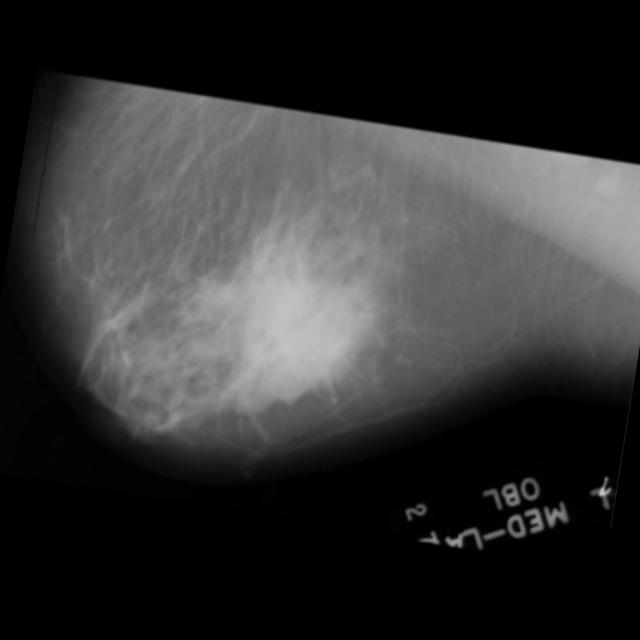ASYM: (201, 236, 387, 422)
